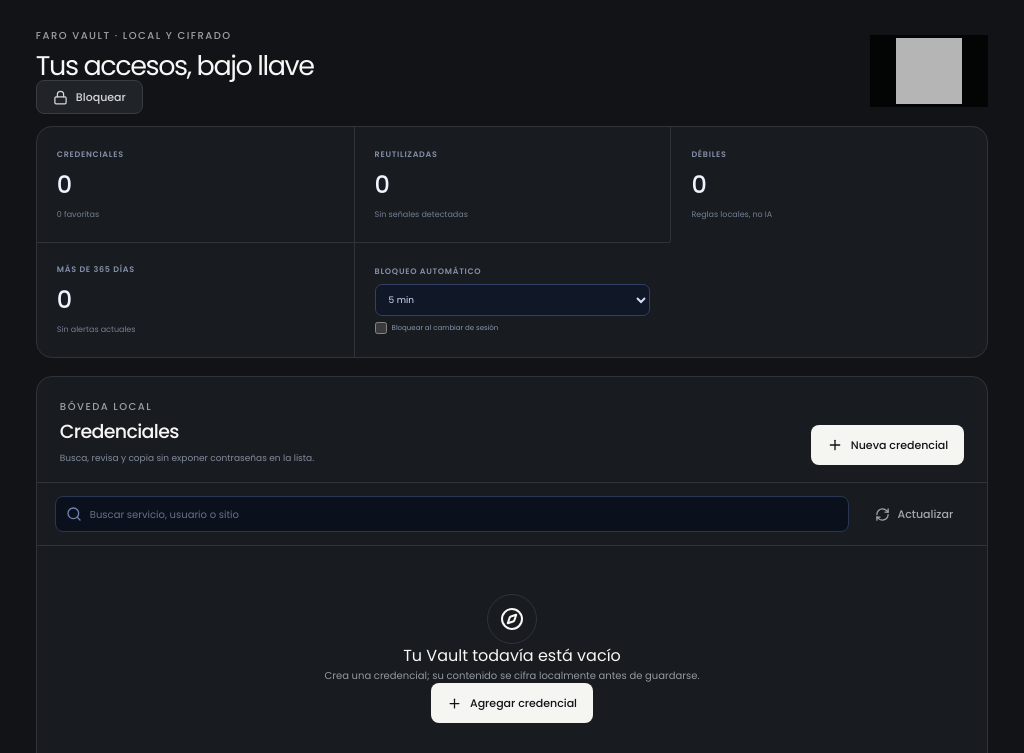
it: Vault: confirmación de guardado y actualización › does not report success when a returned id is missing from the persisted list
Click the button "Nueva credencial" at (888, 445), box [811,425,964,465]
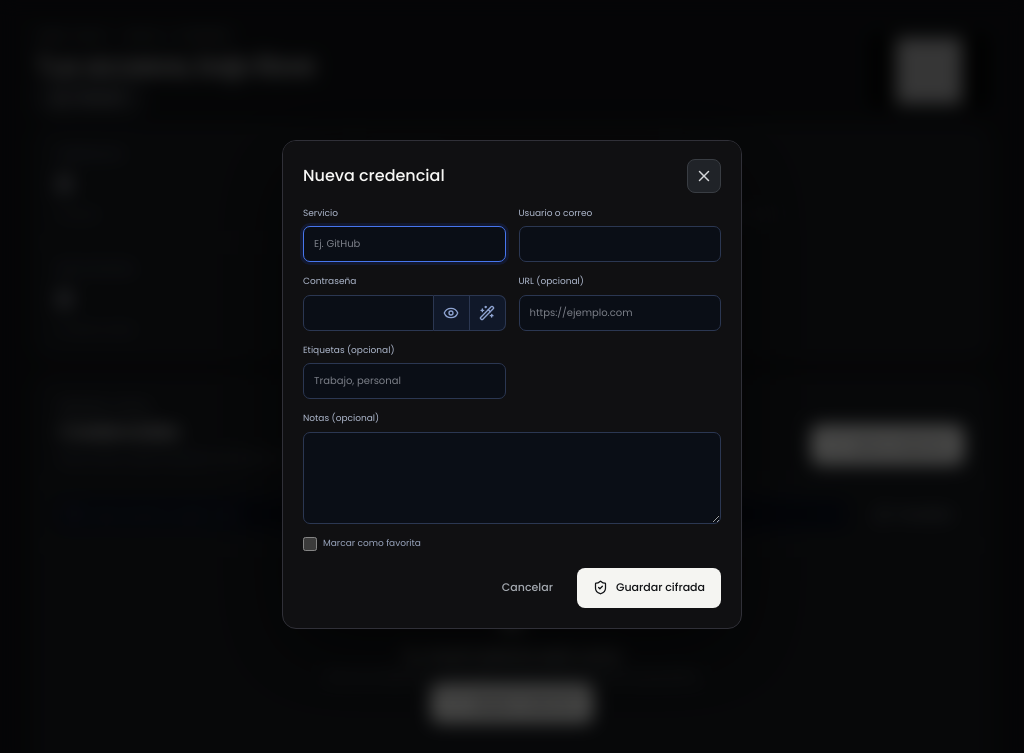
Type "Servicio de prueba" into the field labelled "Servicio" at (404, 244), box [303,226,506,262]
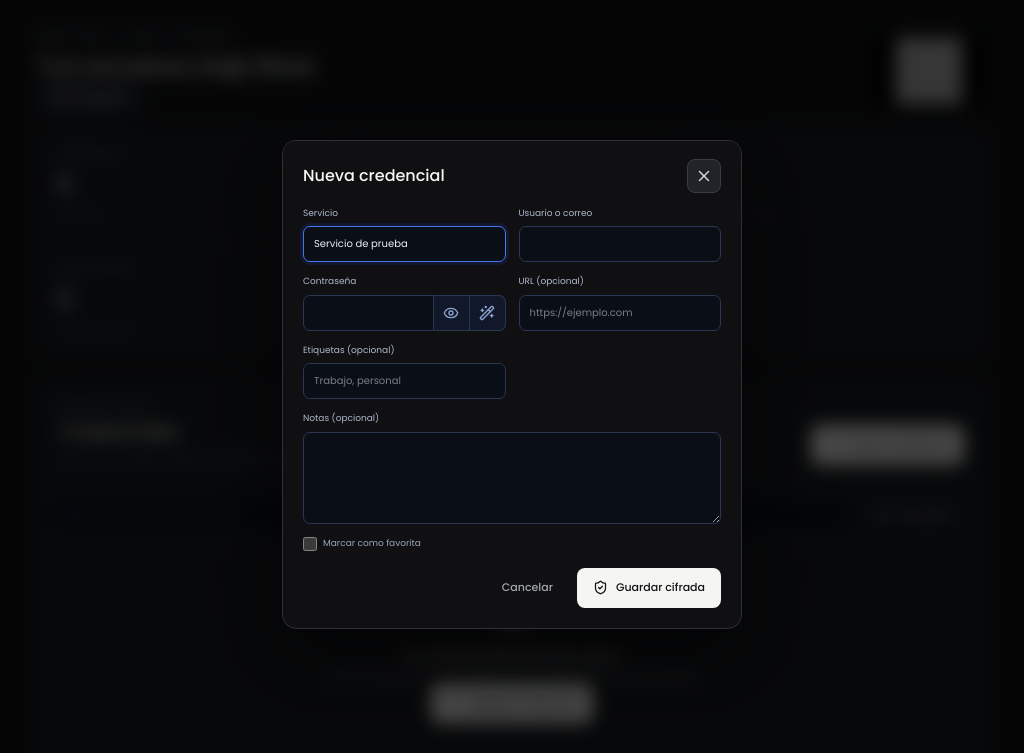
Type "fixture@example.test" into the field labelled "Usuario o correo" at (620, 244), box [518,226,721,262]
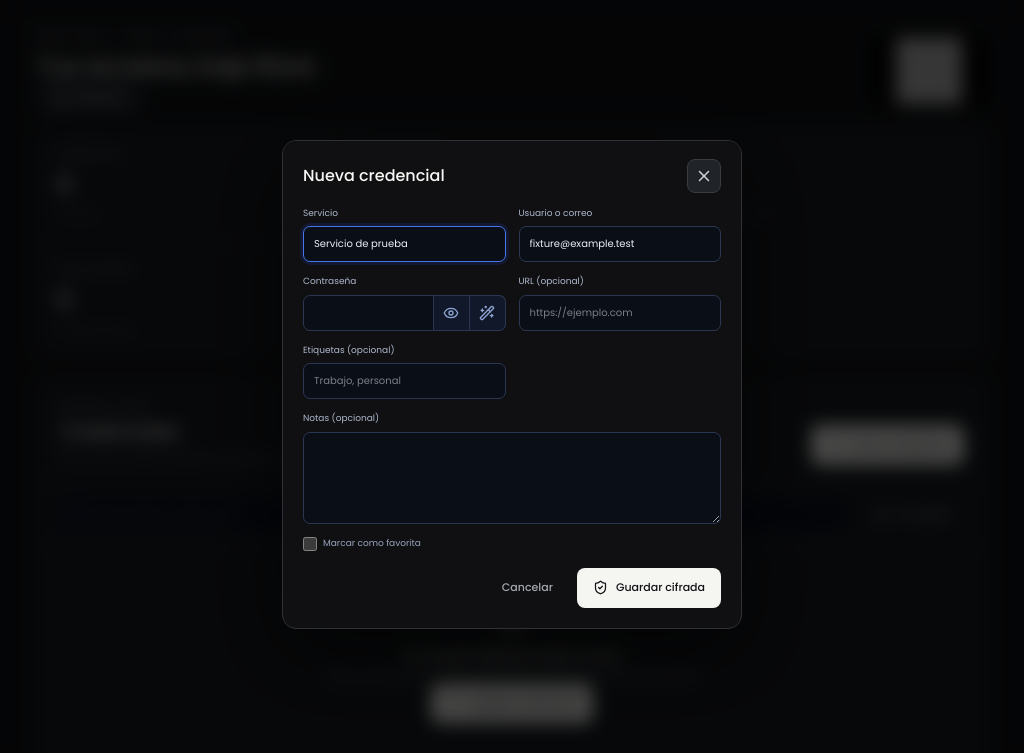
Type "synthetic-test-only" into the password field labelled "Contraseña" at (368, 312), box [303,294,434,330]
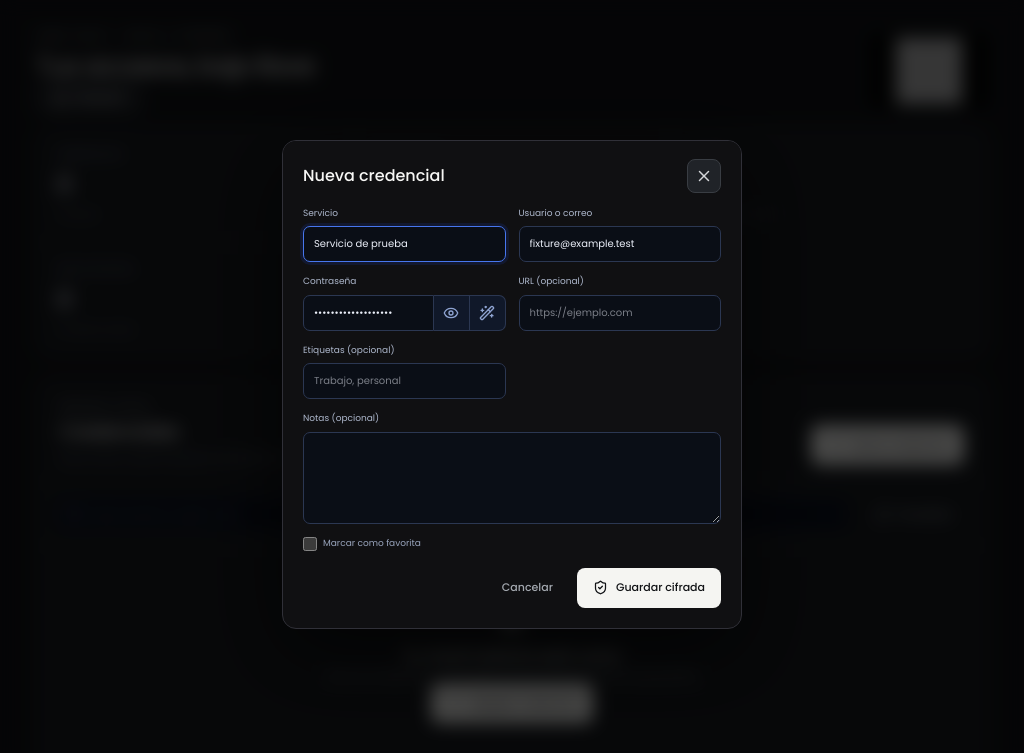
Click the button "Guardar cifrada" at (649, 588), box [577,568,721,608]
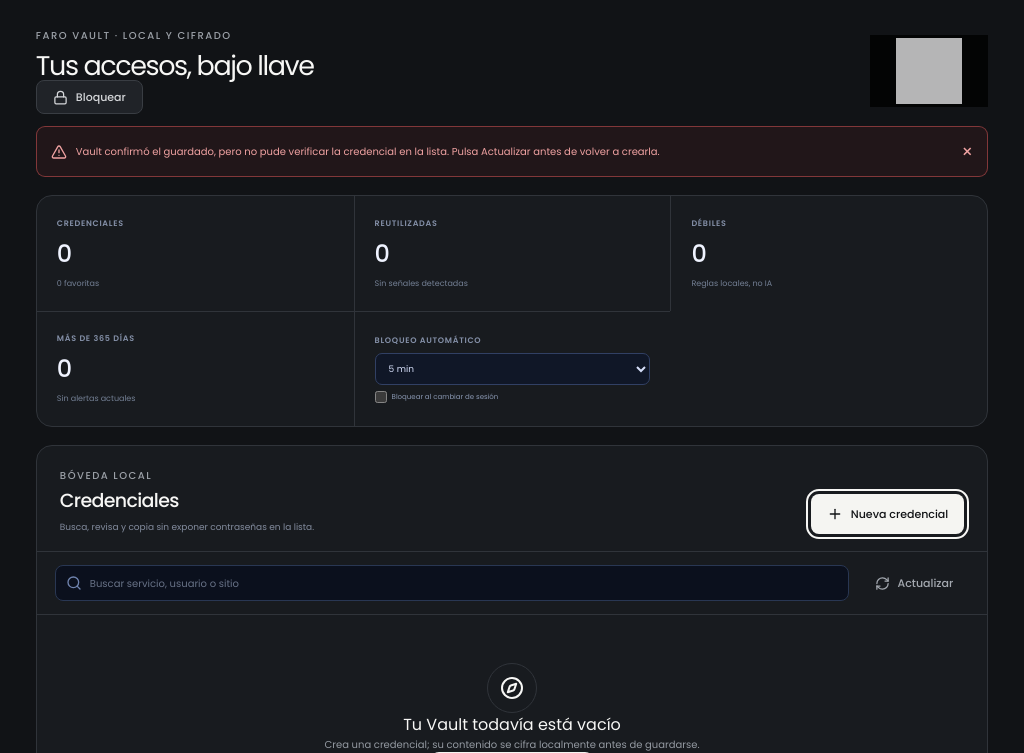
Result: the message shows "no pude verificar la credencial en la lista" at [76,144,660,159]
